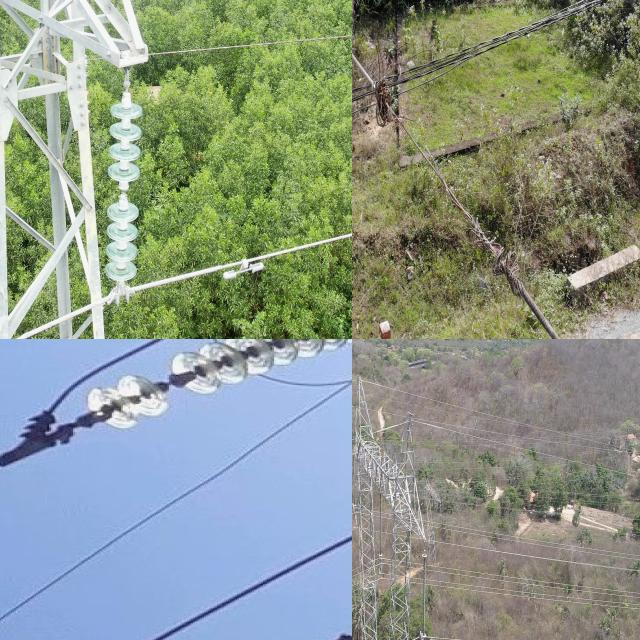杆塔: (0, 0, 153, 339), (352, 372, 435, 640)
正常电缆: (0, 223, 352, 339)
正常绝缘子: (43, 339, 352, 452), (100, 72, 145, 304), (420, 552, 429, 640), (378, 489, 383, 558), (352, 453, 357, 508)
电缆破损: (367, 38, 540, 311)
绝缘子破损: (159, 366, 186, 394), (118, 184, 130, 204)
